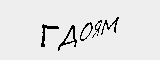Г: (38, 20, 59, 48)
Д: (61, 23, 78, 49)
М: (102, 15, 120, 37)
О: (79, 21, 93, 44)
Я: (92, 15, 101, 39)
